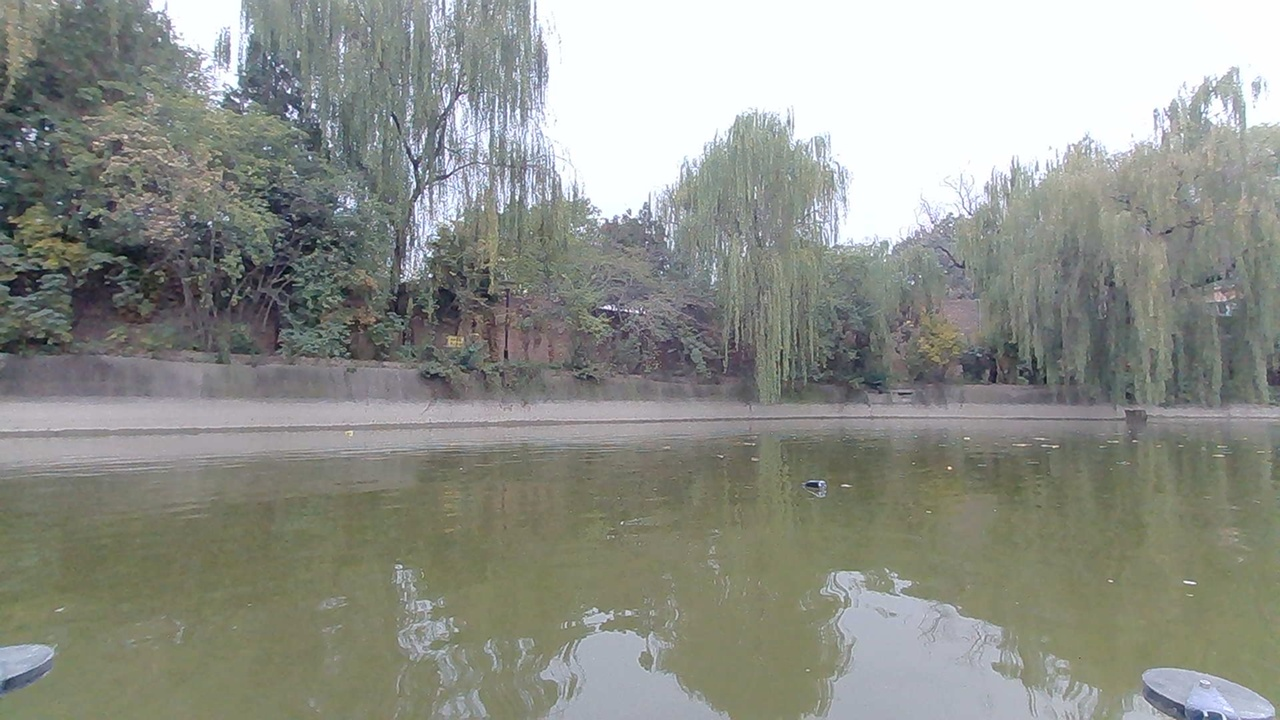bottle: (804, 473, 832, 499)
